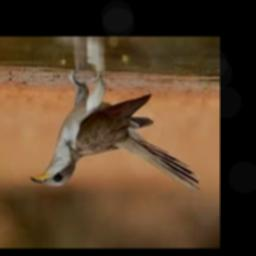Cuckoo: (30, 75, 200, 194)
